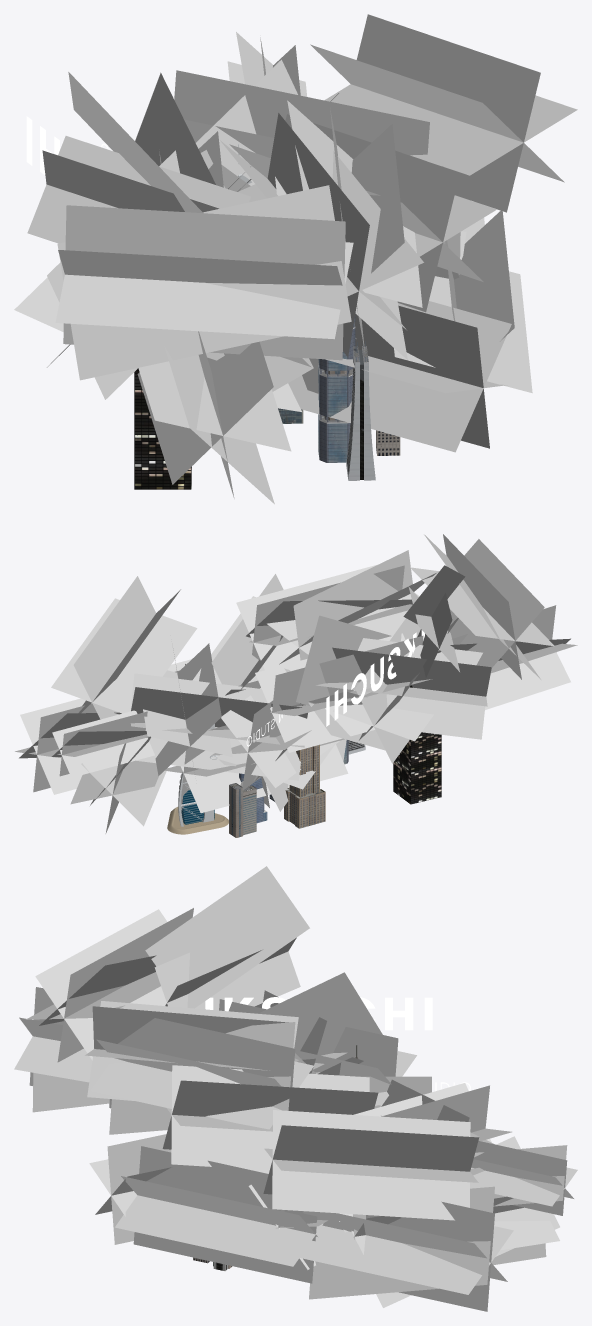
The model's file is alpha_city_scene_withText.glb.
3 renders of one model, top to bottom at view 1: azimuth 30°, elevation 25°; view 2: azimuth 150°, elevation 25°; view 3: azimuth 270°, elevation 25°, orthographic. The views are drawn at different scales.
Visible parts, largest first — view 1: cloud_left_back, cloud_center, cloud_rr, cloud_center2, cloub_back, 2, Building_square_lambert1_0, 1, Text; view 2: cloud_left_back, cloud_rr, cloud_center, cloub_back, Building_square_lambert1_0, 15, baa, cloud_center2, 20, Text; view 3: cloud_left_back, cloud_rr, cloud_center, cloub_back, cloud_center2, Text.
Boxes of the visible parts, left/top/right/bottom form: cloud_left_back: left=27, top=72, right=423, bottom=504; cloud_center: left=174, top=59, right=532, bottom=393; cloud_rr: left=227, top=14, right=577, bottom=243; cloud_center2: left=288, top=301, right=511, bottom=452; cloub_back: left=14, top=131, right=313, bottom=411; 2: left=318, top=315, right=355, bottom=462; Building_square_lambert1_0: left=134, top=368, right=191, bottom=489; 1: left=346, top=342, right=375, bottom=480; Text: left=26, top=116, right=59, bottom=175; cloud_left_back: left=236, top=534, right=577, bottom=763; cloud_rr: left=15, top=576, right=197, bottom=833; cloud_center: left=130, top=574, right=348, bottom=813; cloub_back: left=211, top=633, right=491, bottom=790; Building_square_lambert1_0: left=393, top=685, right=441, bottom=804; 15: left=284, top=703, right=325, bottom=828; baa: left=167, top=724, right=228, bottom=834; cloud_center2: left=181, top=725, right=346, bottom=811; 20: left=229, top=783, right=256, bottom=837; Text: left=326, top=630, right=424, bottom=726; cloud_left_back: left=14, top=866, right=382, bottom=1134; cloud_rr: left=263, top=1110, right=577, bottom=1311; cloud_center: left=115, top=1065, right=511, bottom=1283; cloub_back: left=219, top=990, right=431, bottom=1106; cloud_center2: left=89, top=1134, right=269, bottom=1244; Text: left=205, top=997, right=432, bottom=1030.
Size of the model in its own units: 269 by 165 by 284.
Materials: 10 (4 with a texture image).
